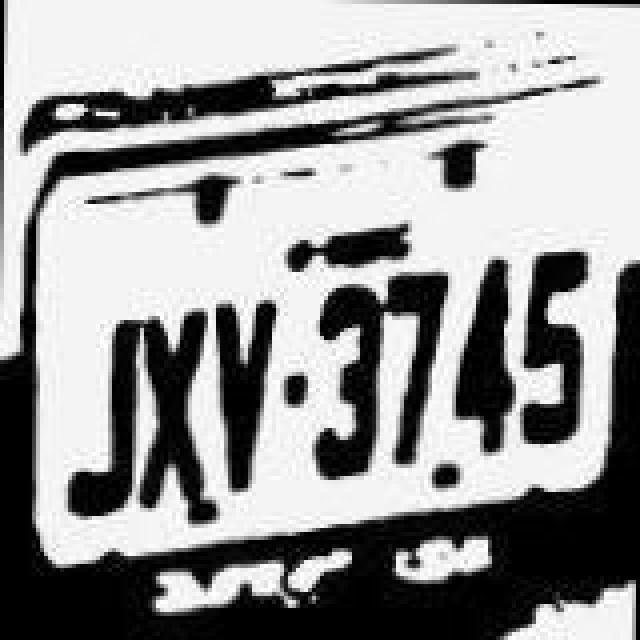3: (304, 272, 380, 504)
4: (444, 230, 516, 462)
5: (514, 246, 590, 466)
7: (380, 266, 452, 474)
J: (66, 294, 138, 522)
V: (202, 278, 282, 502)
X: (134, 288, 206, 508)
